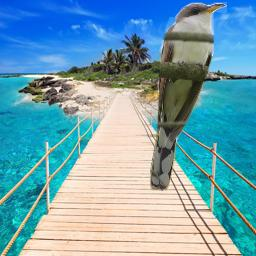Cuckoo: (150, 2, 227, 191)
